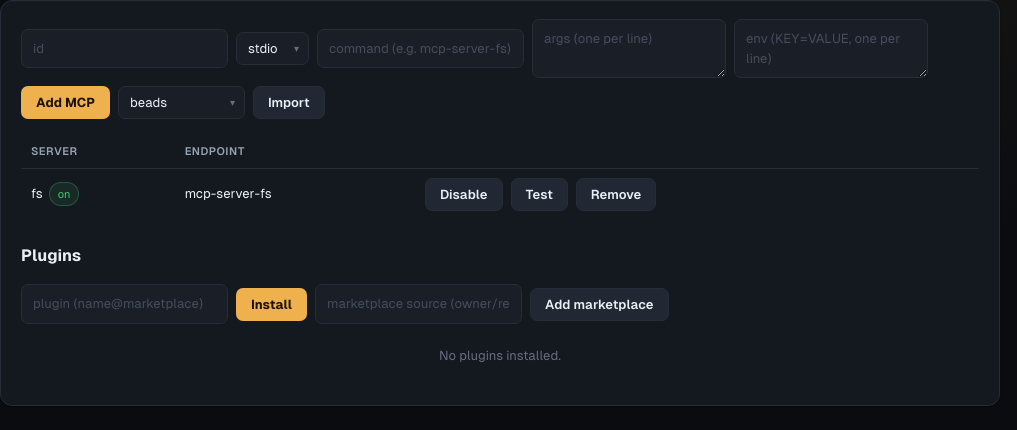
Connectors — connector selector › shows the owner/repo field when GitHub Issues is selected
Expected: the text "mcp-server-fs" is shown, [175, 168, 415, 220]
Select "GitHub Issues" in the dropdown named "Connector" at {"x": 182, "y": 102}, box [118, 86, 245, 119]
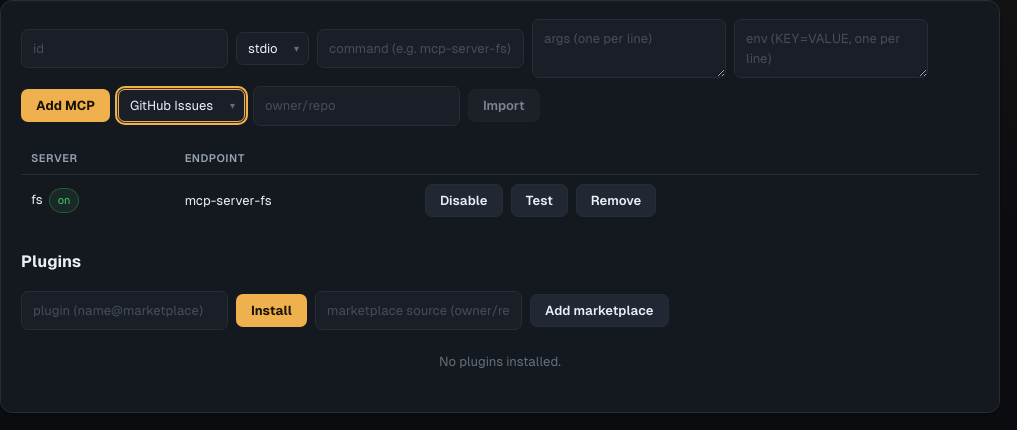
Expected: the field with placeholder "owner/repo" is shown, [253, 86, 460, 126]
